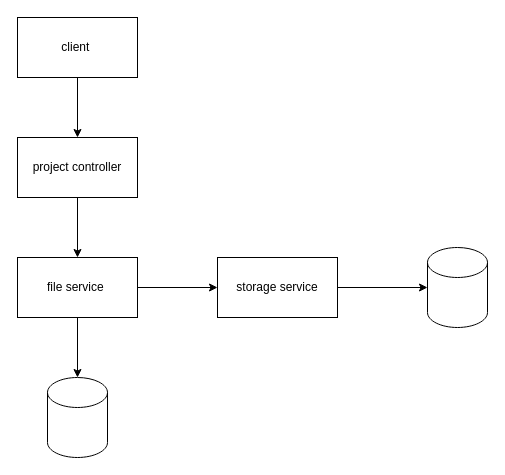
Some shapes in this 505 by 475 pixel diagram are drawn without their labels. The centre of each missing label's shape, as x and y in pixels:
"db" goes at [77,417].
"S3" goes at [457,287].
